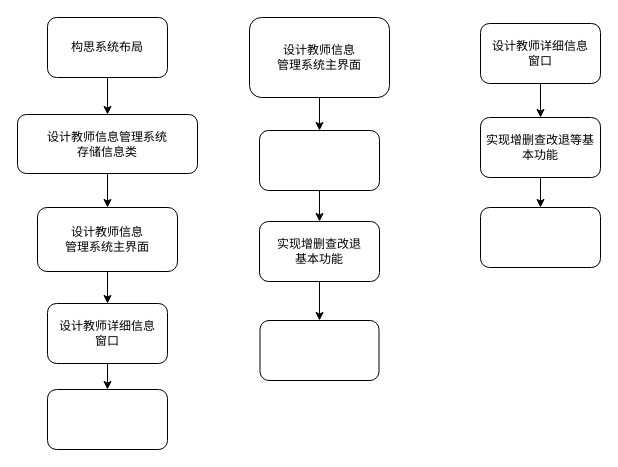
The diagram is 618 pixels wide and 467 high, and some of its shapes have lost their labels. Here are the shapes that lost their labels. From the top down, the centre of each, then its label:
point (319, 160): 实现与详细信息 界面的交互
point (540, 237): 完善文件管理
point (319, 350): 实现进阶功能， 如显示特定职位 的教师信息等
point (107, 419): 美化界面，测试
